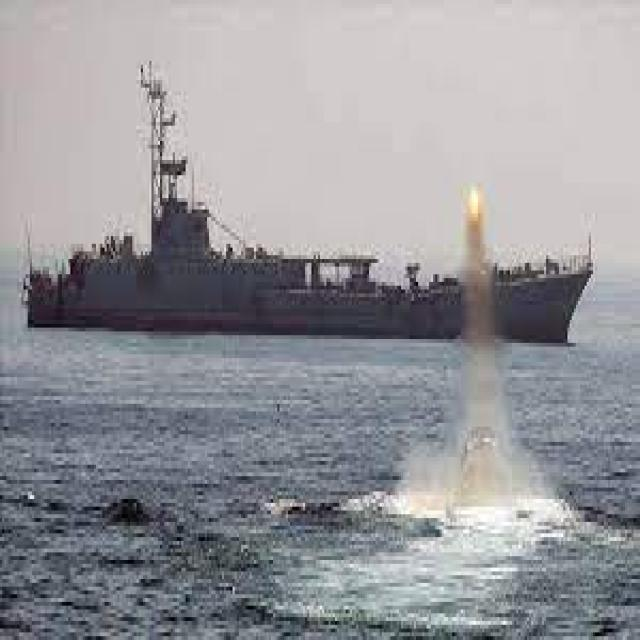navalvessels: (24, 75, 602, 334)
